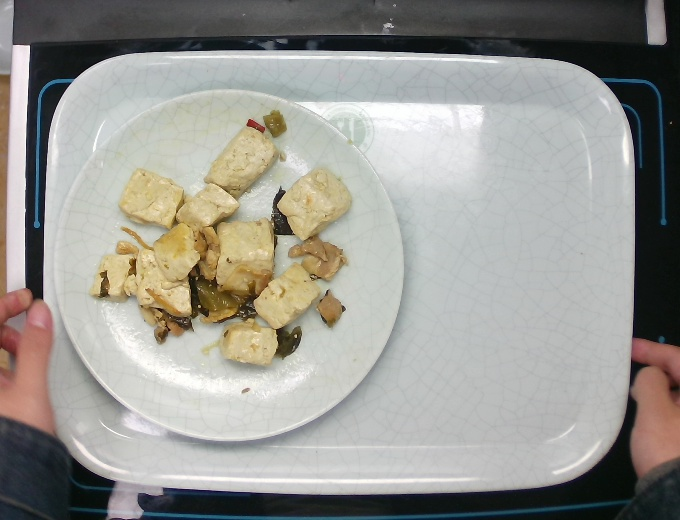JYsf-Da_Yuan_Pan: (50, 87, 406, 443)
